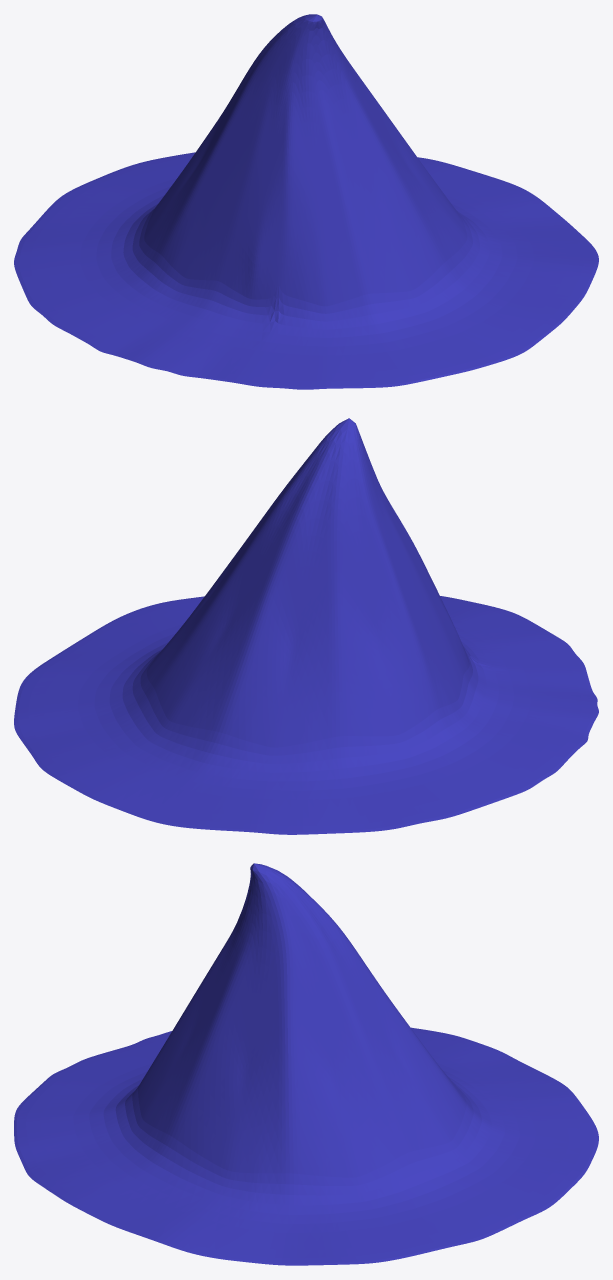
File: bwzhang.dae
3 views of the same model, one above another, from view 1: azimuth 30°, elevation 25°; view 2: azimuth 150°, elevation 25°; view 3: azimuth 270°, elevation 25° (orthographic). The views are drawn at different scales.
Visible parts, largest first — view 1: Hat-S3D-17; view 2: Hat-S3D-17; view 3: Hat-S3D-17.
Part boxes in pixels (<box>): Hat-S3D-17: <box>14,14,598,389</box>; Hat-S3D-17: <box>14,418,598,834</box>; Hat-S3D-17: <box>14,863,598,1265</box>.
Size of the model in its own units: 4.15 by 2.23 by 4.29.
